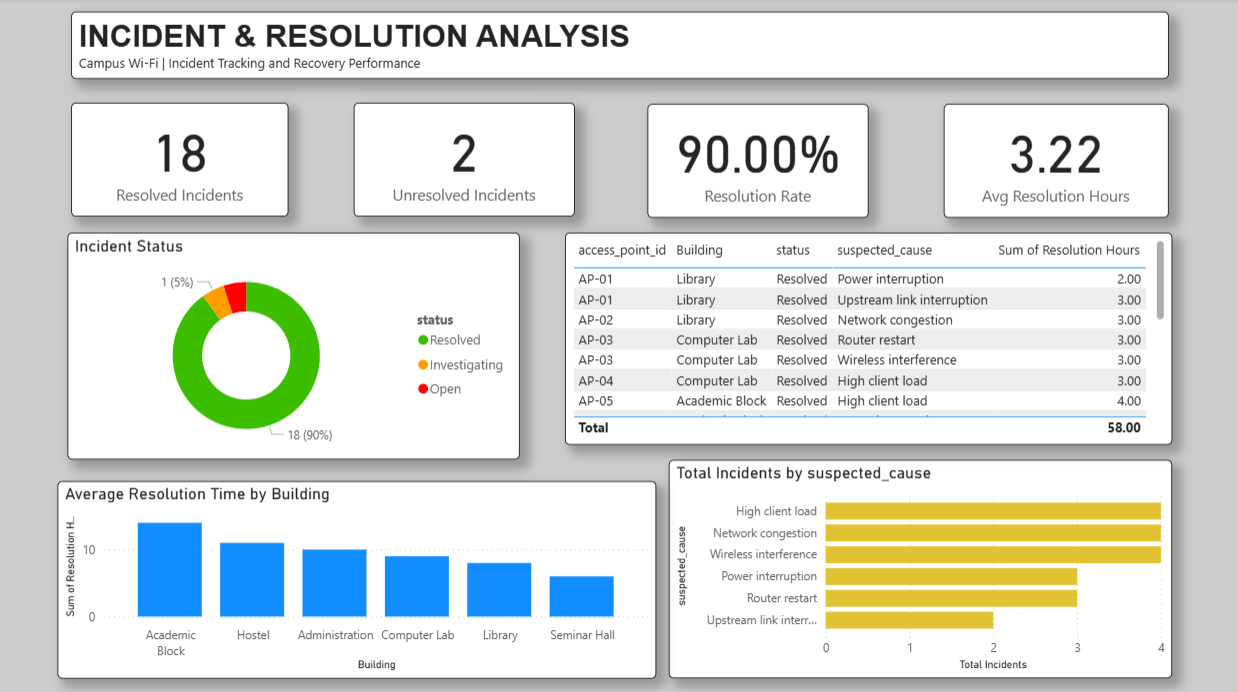

Layout of this report page (visuals, bound fields, positions):
{"tool":"powerbi","page":{"name":"Incident & Resolution Analysis","canvas":[1280,720],"ordinal":2},"visuals":[{"type":"textbox","box":[73.5,14.2,1132,69.6],"z":0},{"type":"card","fields":{"Values":["incidents.Resolved Incidents"]},"box":[73.5,108.3,224.3,117.3],"z":1},{"type":"card","fields":{"Values":["incidents.Unresolved Incidents"]},"box":[364.9,108.3,228.2,117.3],"z":2},{"type":"card","fields":{"Values":["incidents.Resolution Rate"]},"box":[667.9,109.6,228.2,117.3],"z":3},{"type":"card","fields":{"Values":["incidents.Avg Resolution Hours"]},"box":[973.4,109.6,232.1,117.3],"z":4},{"type":"donutChart","title":"Incident Status","fields":{"Category":["incidents.status"],"Y":["CountNonNull(incidents.incident_id)"]},"box":[69.6,242.4,466.7,234.7],"z":5},{"type":"clusteredBarChart","fields":{"Category":["incidents.suspected_cause"],"Y":["incidents.Total Incidents"]},"box":[689.8,477,519.6,225.6],"z":6},{"type":"clusteredColumnChart","title":"Average Resolution Time by Building","fields":{"Y":["Sum(incidents.Resolution Hours)"],"Category":["access_points.Building"]},"box":[59.3,499,617.6,203.7],"z":7},{"type":"tableEx","fields":{"Values":["access_points.access_point_id","access_points.Building","incidents.status","incidents.suspected_cause","Sum(incidents.Resolution Hours)"]},"box":[582.8,242.4,626.6,219.2],"z":8}]}

Visuals, with their boxes in screenshot pixels (x1, y1, x2, y2), scaled from the page's 1280x720 canvas onto the 1238x692 screenshot:
textbox: box(71, 14, 1166, 81)
card - incidents.Resolved Incidents: box(71, 104, 288, 217)
card - incidents.Unresolved Incidents: box(353, 104, 574, 217)
card - incidents.Resolution Rate: box(646, 105, 867, 218)
card - incidents.Avg Resolution Hours: box(941, 105, 1166, 218)
"Incident Status" donutChart: box(67, 233, 519, 459)
clusteredBarChart - incidents.suspected_cause x incidents.Total Incidents: box(667, 458, 1170, 675)
"Average Resolution Time by Building" clusteredColumnChart: box(57, 480, 655, 675)
tableEx - access_points.access_point_id x access_points.Building: box(564, 233, 1170, 444)
